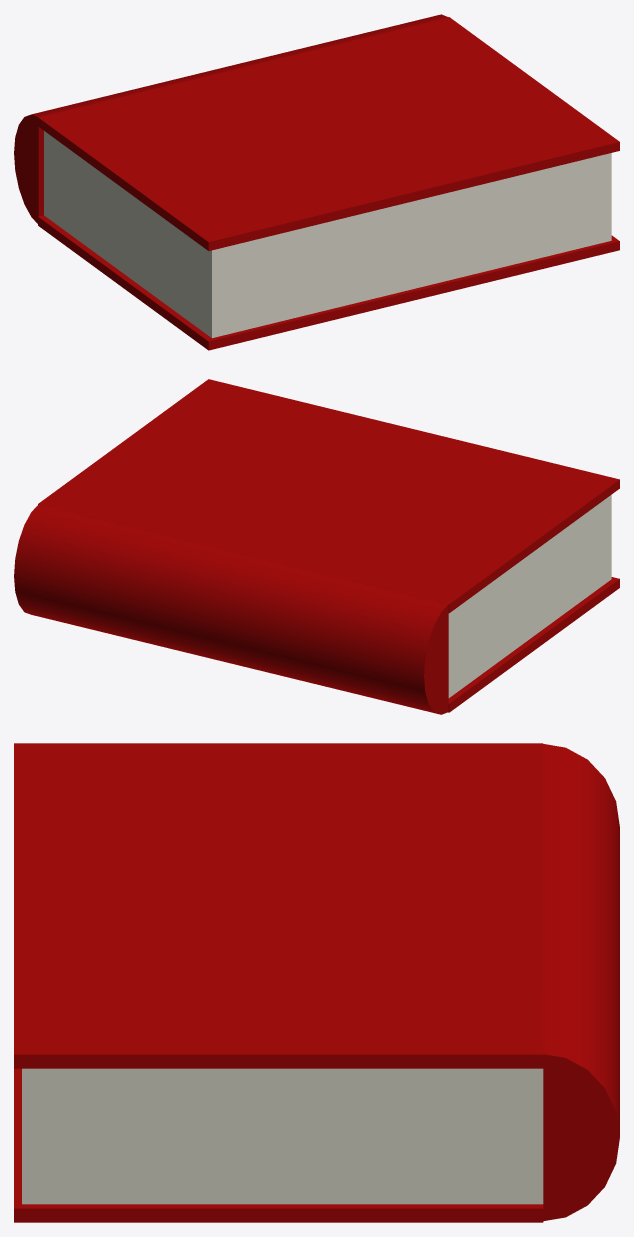
The model's file is book1.fbx.
3 renders of one model, top to bottom at view 1: azimuth 30°, elevation 25°; view 2: azimuth 150°, elevation 25°; view 3: azimuth 270°, elevation 25°, orthographic. The views are drawn at different scales.
Parts seen in each view (by area): view 1: pCylinder9; view 2: pCylinder9; view 3: pCylinder9.
Boxes of the visible parts, left/top/right/bottom form: pCylinder9: left=14, top=14, right=619, bottom=350; pCylinder9: left=14, top=379, right=619, bottom=714; pCylinder9: left=14, top=743, right=619, bottom=1222.
Size of the model in its own units: 8.23 by 2.07 by 6.77.
